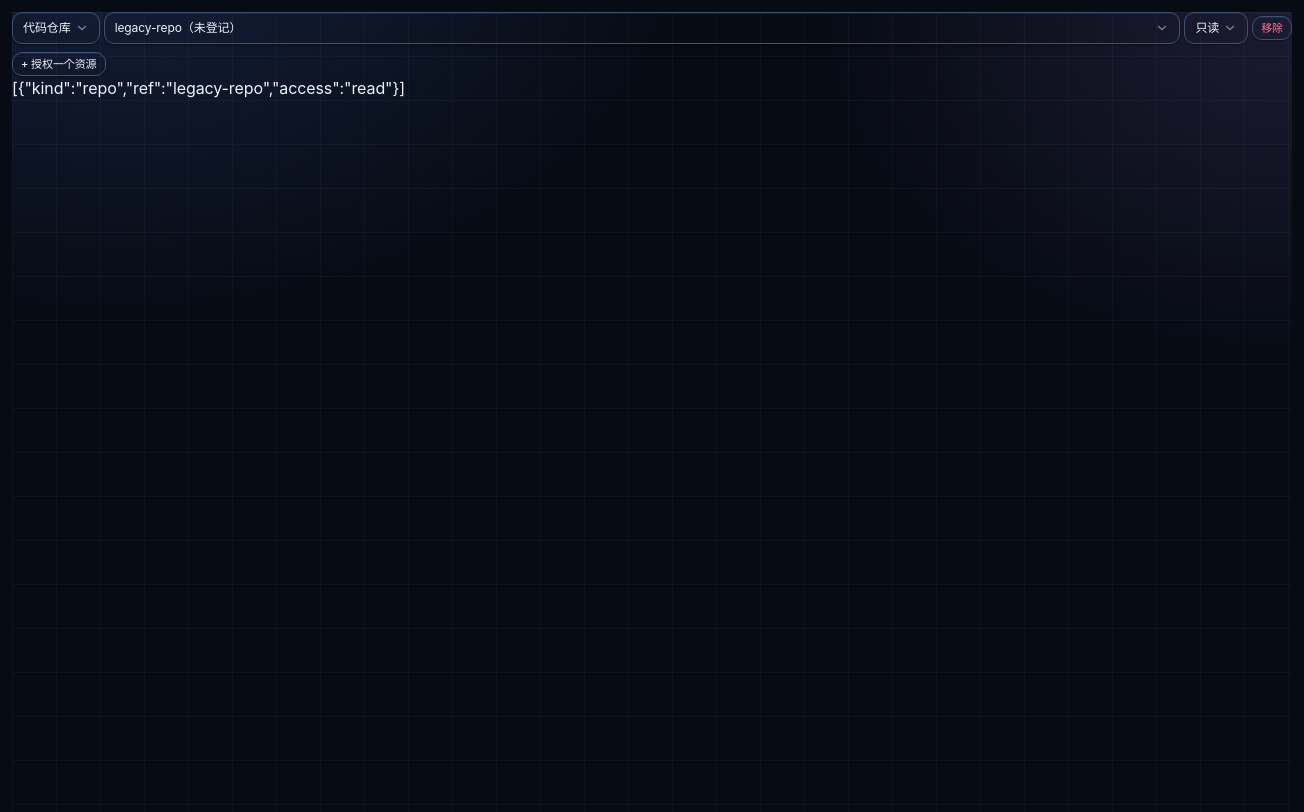
★ ref 从登记表里选 › 登记表里查不到的 ref 保留，并标明未登记
Click the dropdown named "资源" at [178, 28], box [104,12,1180,44]
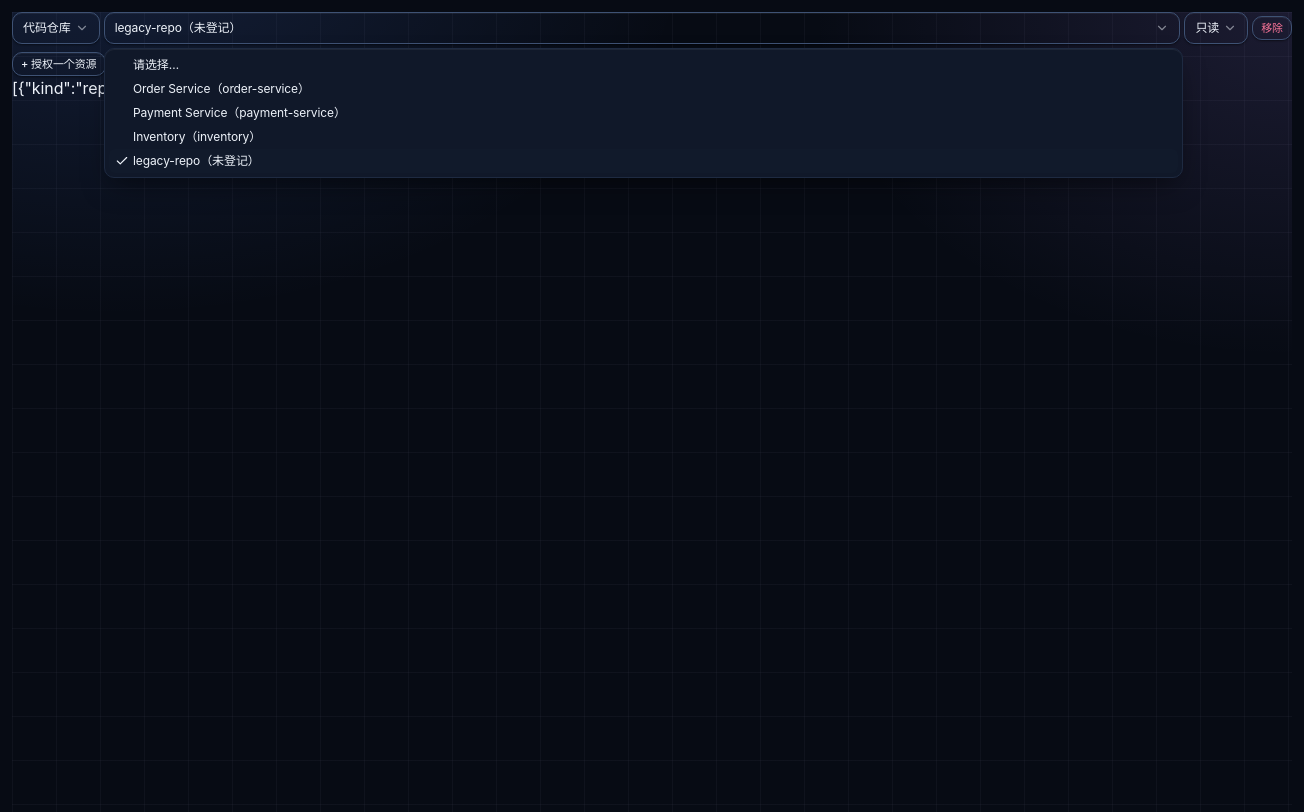
Expected: the option "legacy-repo（未登记）" is shown, [109,149,1178,173]
